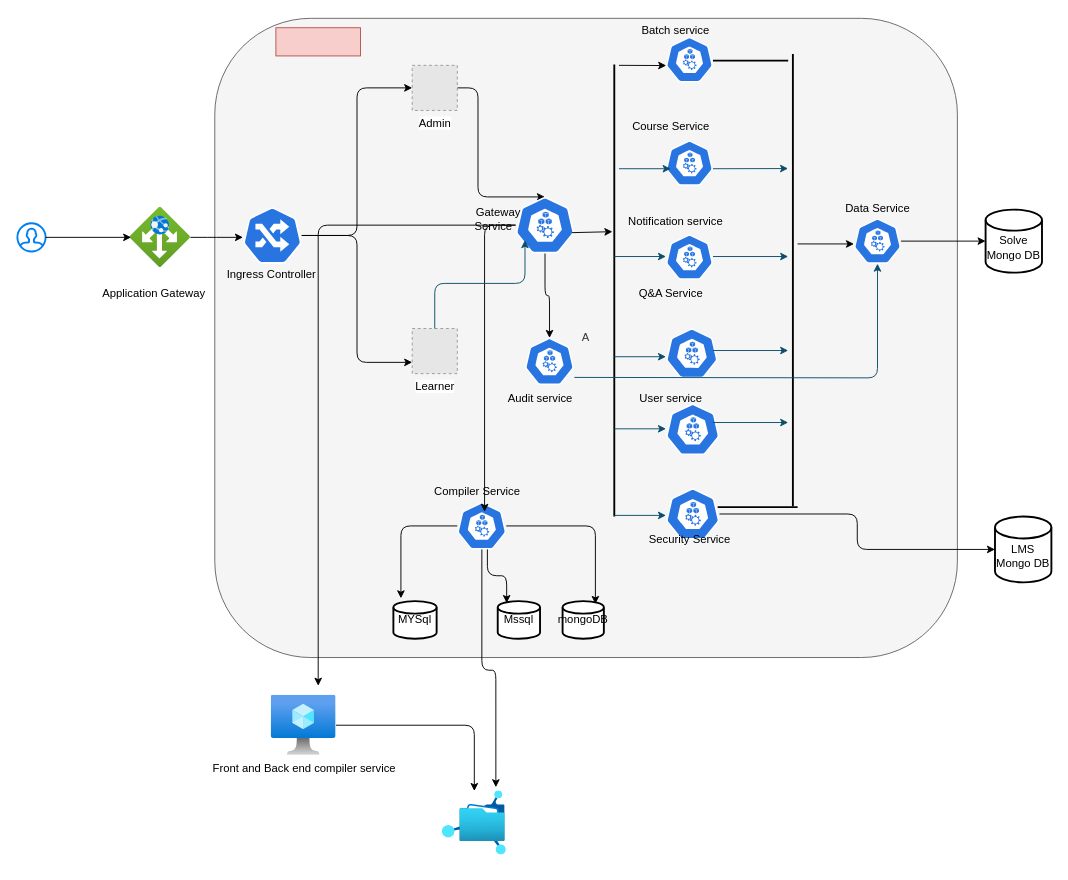
Image size: 1068x880. Some labels were removed from this diagram. Grey dashed boxes stand in for pictures. Each missing label, with the box of its shape:
AKS Cluster: (275, 27, 360, 56)
File share: (442, 791, 506, 854)
User: (16, 222, 46, 252)
